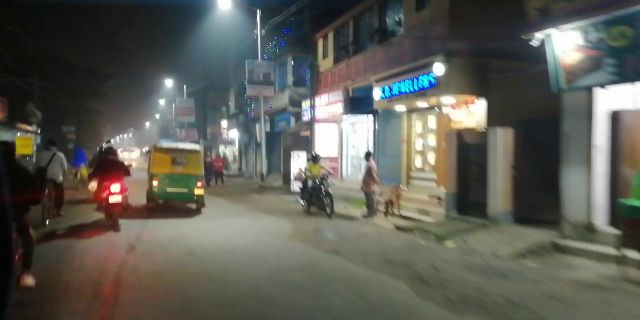Autorickshaw: (148, 140, 214, 217)
Motorbike: (92, 142, 136, 235), (293, 152, 341, 218)
